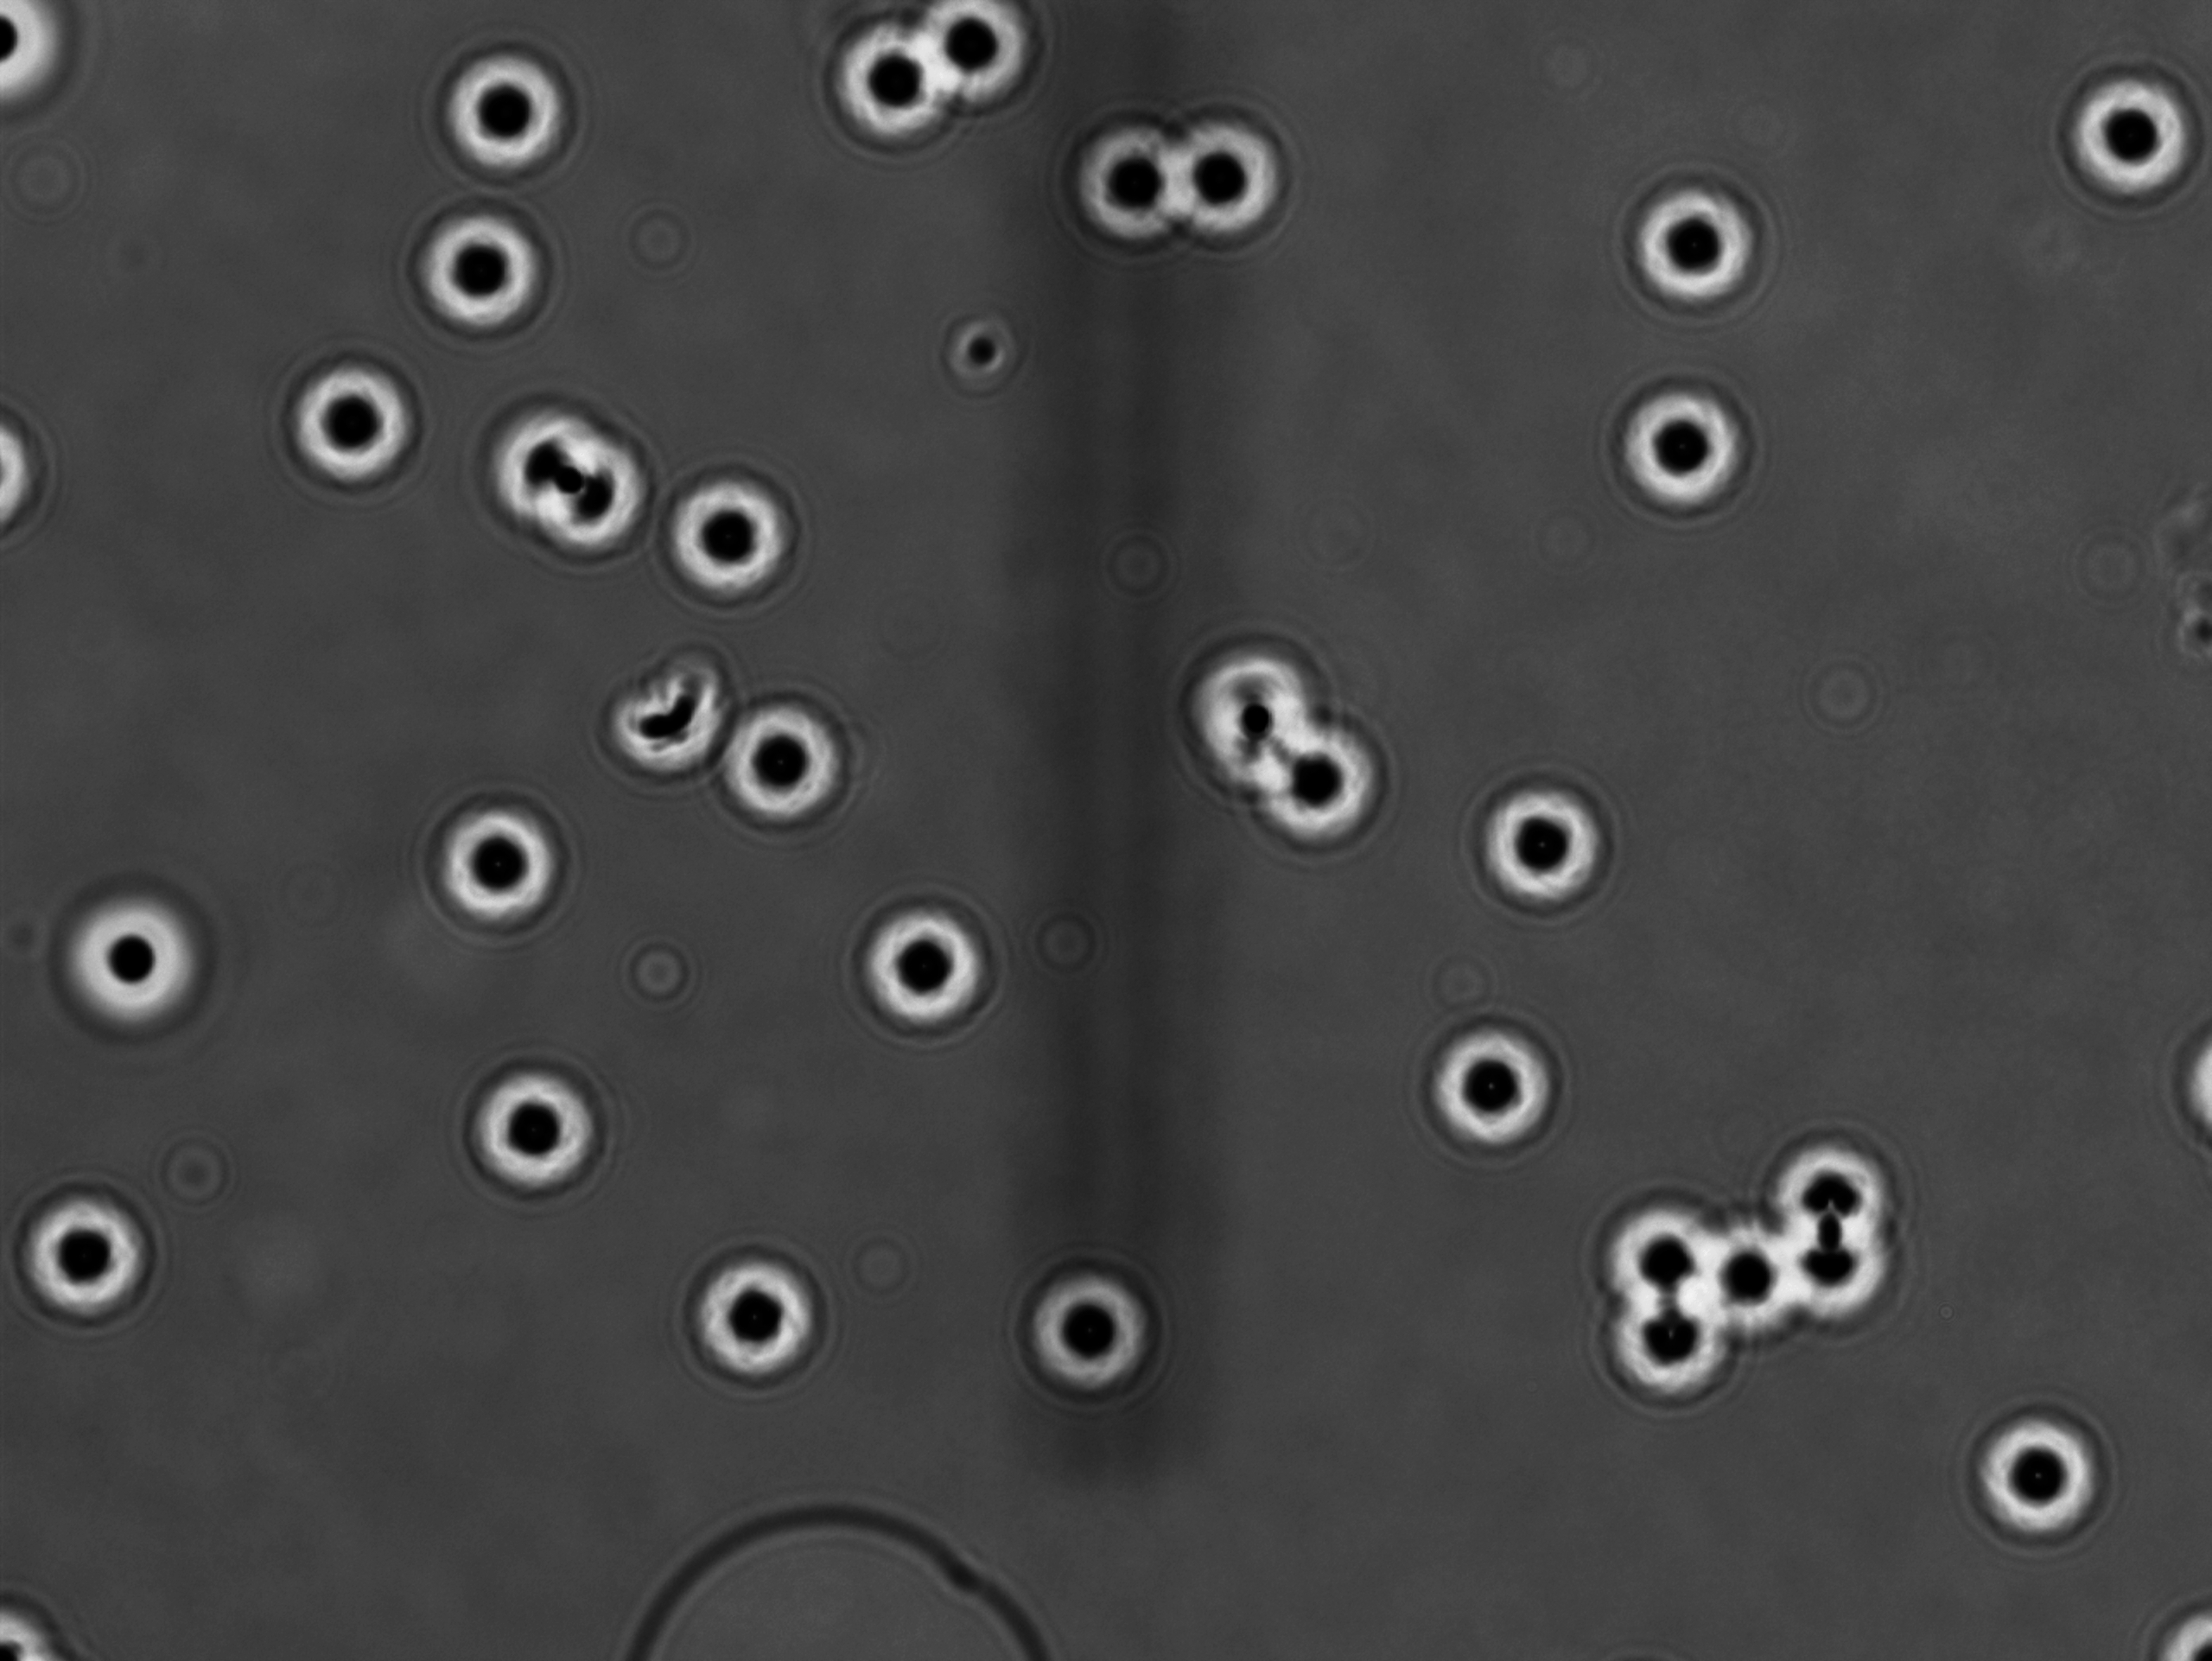depth:-20: (2039, 47, 2212, 227), (1950, 1384, 2121, 1562), (387, 187, 577, 345), (1148, 84, 1308, 270), (410, 790, 583, 956), (1455, 755, 1628, 919), (1757, 1106, 1935, 1265), (663, 1234, 829, 1403), (1233, 715, 1408, 876), (274, 335, 443, 499), (454, 1043, 609, 1218), (649, 440, 811, 604), (816, 9, 979, 173), (1607, 164, 1778, 319), (841, 881, 1005, 1042), (1594, 361, 1760, 520), (1394, 1005, 1558, 1164), (1753, 1204, 1926, 1350), (420, 42, 579, 195), (1057, 106, 1207, 263), (1003, 1254, 1160, 1403), (705, 689, 862, 836), (1589, 1185, 1744, 1319), (1598, 1282, 1748, 1417)
